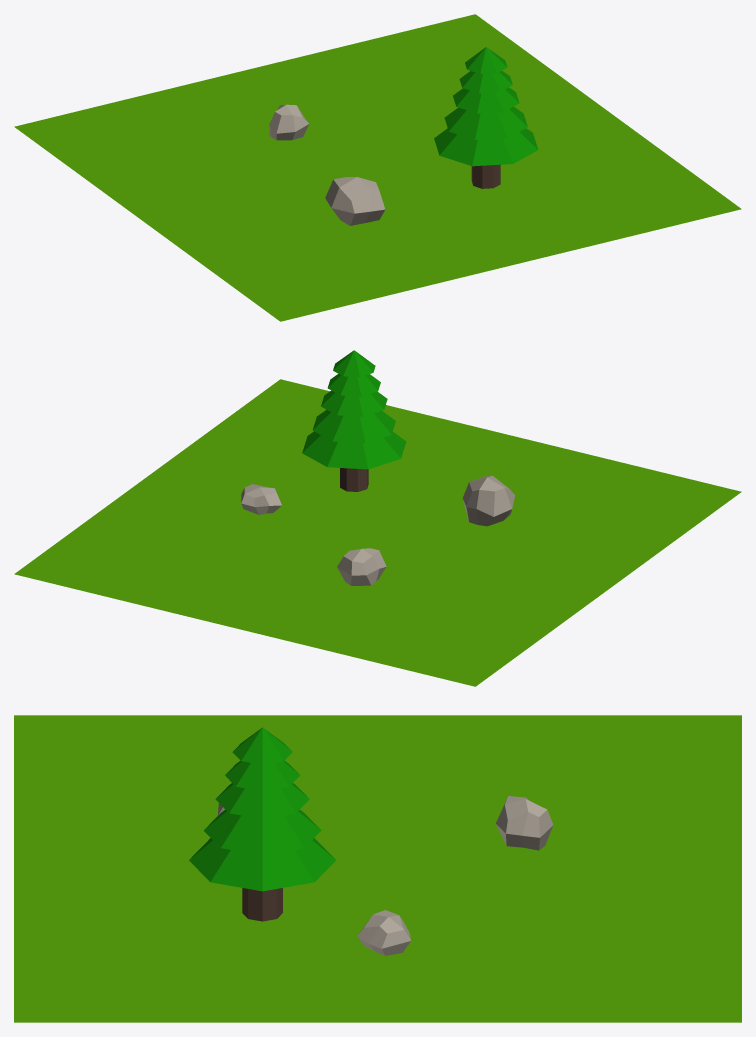
File: example_scene.glb
The picture shows the model from 3 angles, top to bottom: view 1: azimuth 30°, elevation 25°; view 2: azimuth 150°, elevation 25°; view 3: azimuth 270°, elevation 25°; orthographic projection. The views are drawn at different scales.
Visible parts, largest first — view 1: ground, pine, stone_01, stone_01.001; view 2: ground, pine, stone_01, stone_01.001, stone_02; view 3: ground, pine, stone_01.001, stone_02.
Boxes of the visible parts, <box> form: ground: <box>14,14,741,321</box>; pine: <box>434,47,538,188</box>; stone_01: <box>325,177,385,225</box>; stone_01.001: <box>269,104,308,140</box>; ground: <box>14,379,741,686</box>; pine: <box>302,350,406,491</box>; stone_01: <box>462,475,514,526</box>; stone_01.001: <box>337,548,386,585</box>; stone_02: <box>241,484,281,514</box>; ground: <box>14,715,741,1022</box>; pine: <box>189,727,335,921</box>; stone_01.001: <box>496,796,553,850</box>; stone_02: <box>357,910,410,955</box>.
Bounding box in the file's own units: 16 × 4.65 × 16.
